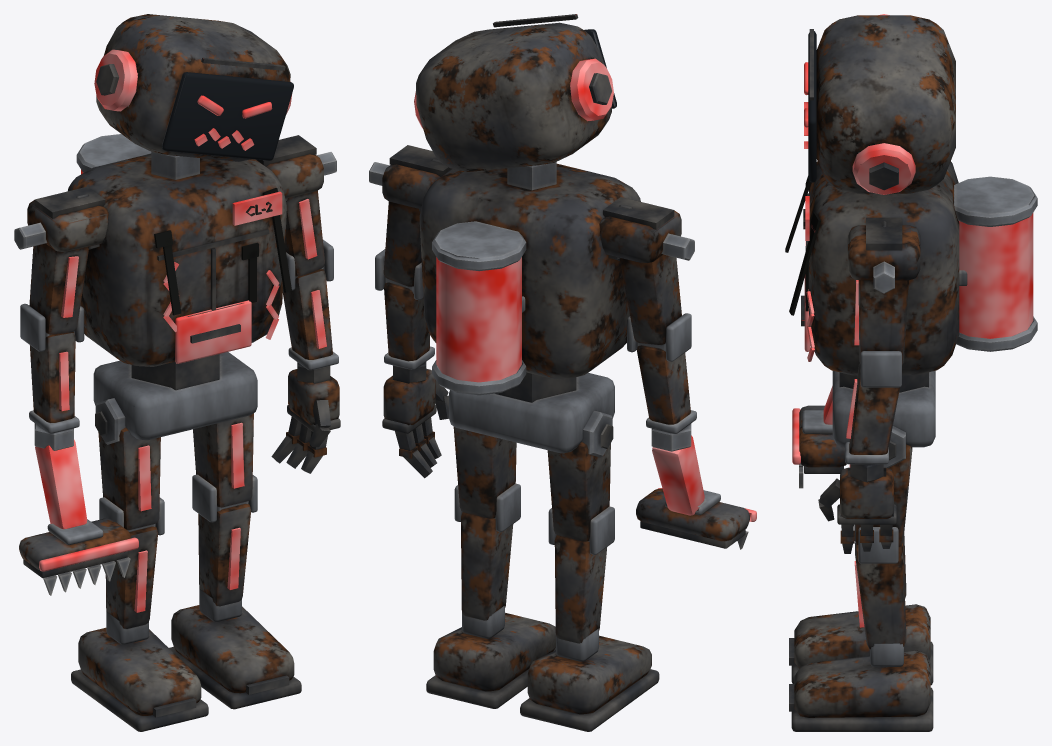
File: cleaner_night.fbx
3 renders of one model, left to right at view 1: azimuth 30°, elevation 25°; view 2: azimuth 150°, elevation 25°; view 3: azimuth 270°, elevation 25°, orthographic.
Visible parts, largest first — view 1: Torso, Head, LeftShin, Shin, UpperArm, Hand, Thigh, LeftUpperArm, LeftThigh, LeftHand, Forearm, LeftForearm (+1 smaller); view 2: Torso, Head, Shin, LeftShin, UpperArm, Hand, Thigh, LeftUpperArm, LeftThigh, LeftHand, Forearm, LeftForearm; view 3: Torso, Head, LeftShin, LeftUpperArm, Shin, LeftHand, LeftForearm, Hand, LeftThigh.
Boxes of the visible parts, <box> form: Torso: <box>68,134,291,440</box>; Head: <box>94,14,293,161</box>; LeftShin: <box>169,501,301,709</box>; Shin: <box>71,523,208,731</box>; UpperArm: <box>14,186,108,351</box>; Hand: <box>19,423,138,595</box>; Thigh: <box>95,398,164,535</box>; LeftUpperArm: <box>256,135,336,290</box>; LeftThigh: <box>192,413,257,522</box>; LeftHand: <box>271,362,340,473</box>; Forearm: <box>29,331,79,433</box>; LeftForearm: <box>283,266,338,370</box>; Torso: <box>419,158,640,453</box>; Head: <box>414,14,616,171</box>; Shin: <box>520,535,659,731</box>; LeftShin: <box>426,512,555,708</box>; UpperArm: <box>599,197,694,361</box>; Hand: <box>636,423,756,549</box>; Thigh: <box>547,410,614,554</box>; LeftUpperArm: <box>369,145,451,300</box>; LeftThigh: <box>453,426,520,531</box>; LeftHand: <box>382,362,448,478</box>; Forearm: <box>636,342,696,433</box>; LeftForearm: <box>384,276,434,369</box>; Torso: <box>785,152,1037,447</box>; Head: <box>808,14,955,194</box>; LeftShin: <box>789,542,933,731</box>; LeftUpperArm: <box>848,217,920,387</box>; Shin: <box>789,534,933,685</box>; LeftHand: <box>818,464,896,553</box>; LeftForearm: <box>845,363,899,464</box>; Hand: <box>792,386,846,488</box>; LeftThigh: <box>854,426,912,563</box>.
Bounding box in the file's own units: 2.96 × 5.53 × 1.9.
1 material, 1 textured.
